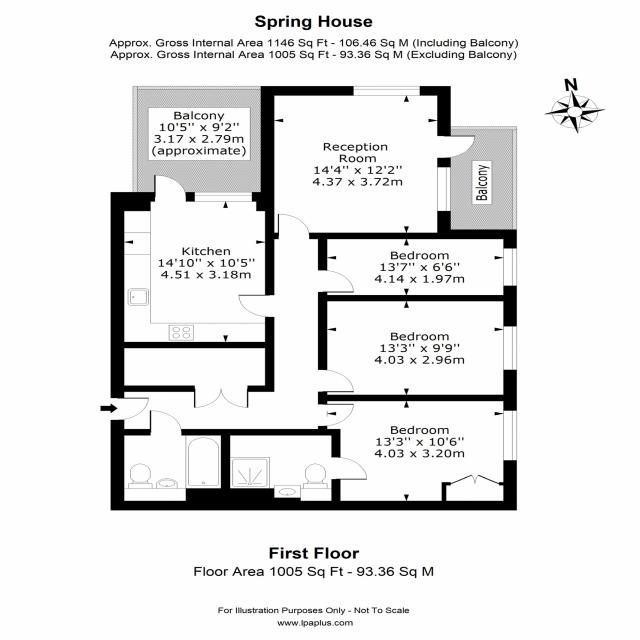DOOR: (437, 134, 476, 159), (110, 397, 150, 421), (153, 174, 187, 201), (317, 369, 355, 393), (237, 294, 275, 318), (317, 403, 354, 427), (331, 456, 368, 480), (318, 269, 354, 293), (277, 213, 310, 239), (149, 410, 182, 436)
ROOM: (259, 86, 476, 239), (110, 174, 275, 348), (317, 395, 517, 511), (318, 295, 517, 401), (318, 229, 517, 302)
WINDOW: (502, 410, 518, 462), (352, 85, 422, 96), (436, 166, 452, 212), (503, 326, 518, 371), (193, 191, 254, 202), (502, 248, 518, 287)
